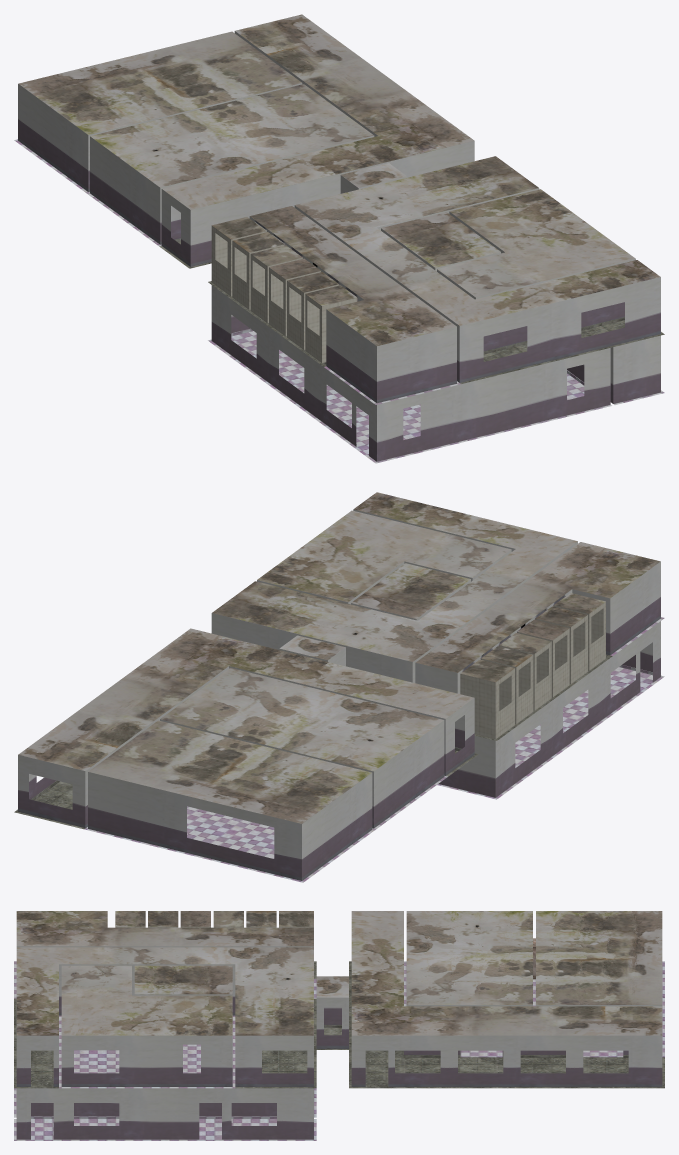
File: A4_InteriorStructure.FBX
The picture shows the model from 3 angles, top to bottom: view 1: azimuth 30°, elevation 25°; view 2: azimuth 150°, elevation 25°; view 3: azimuth 270°, elevation 25°; orthographic projection. The views are drawn at different scales.
Parts seen in each view (by area): view 1: A4_InteriorStructure; view 2: A4_InteriorStructure; view 3: A4_InteriorStructure.
Part boxes in pixels (left/top/right/bottom): A4_InteriorStructure: left=14, top=14, right=664, bottom=463; A4_InteriorStructure: left=14, top=492, right=664, bottom=882; A4_InteriorStructure: left=14, top=911, right=664, bottom=1140.
Size of the model in its own units: 1655 by 632 by 3586.
1 material, 1 textured.
